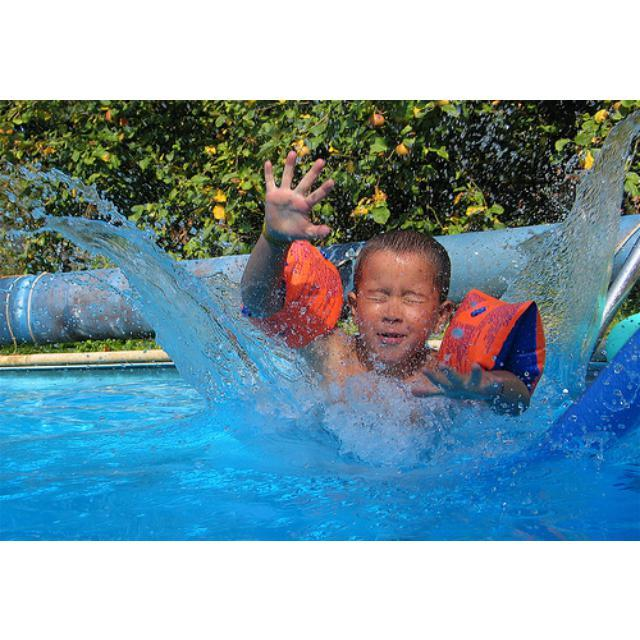human: (237, 150, 540, 445)
